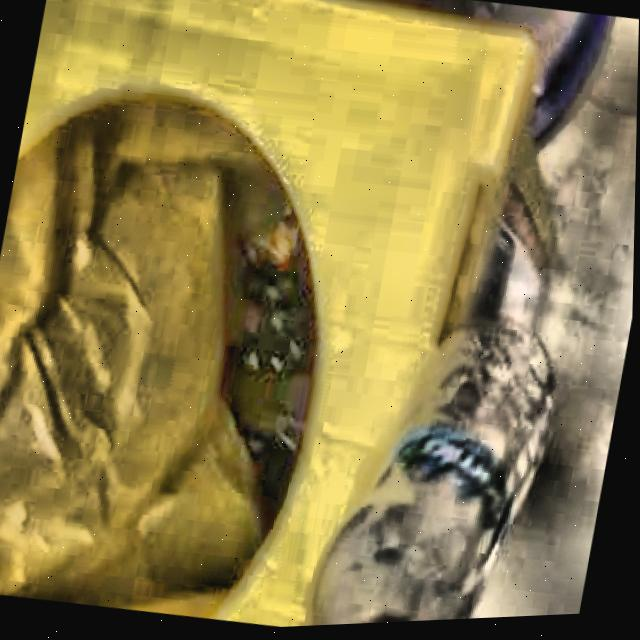plastic: (315, 326, 561, 628)
